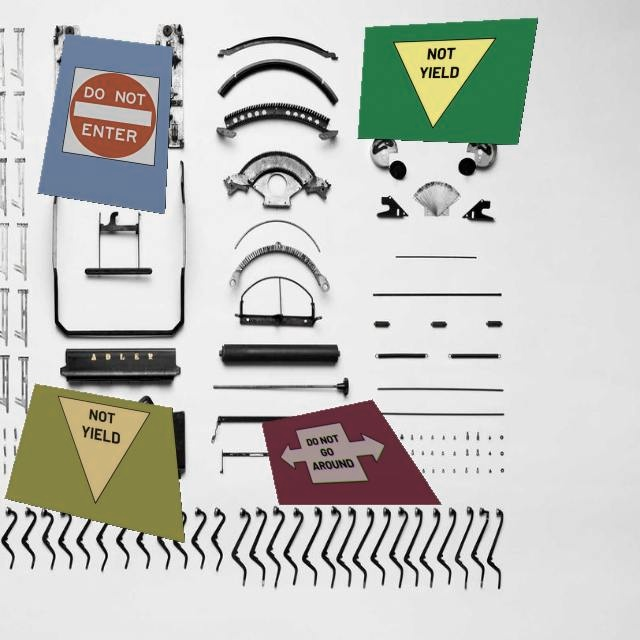DO_NOT_ENTER: (60, 65, 165, 169)
DO_NOT_GO_AROUND: (274, 413, 407, 500)
NOT_YIELD: (39, 393, 174, 518), (386, 38, 497, 130)
